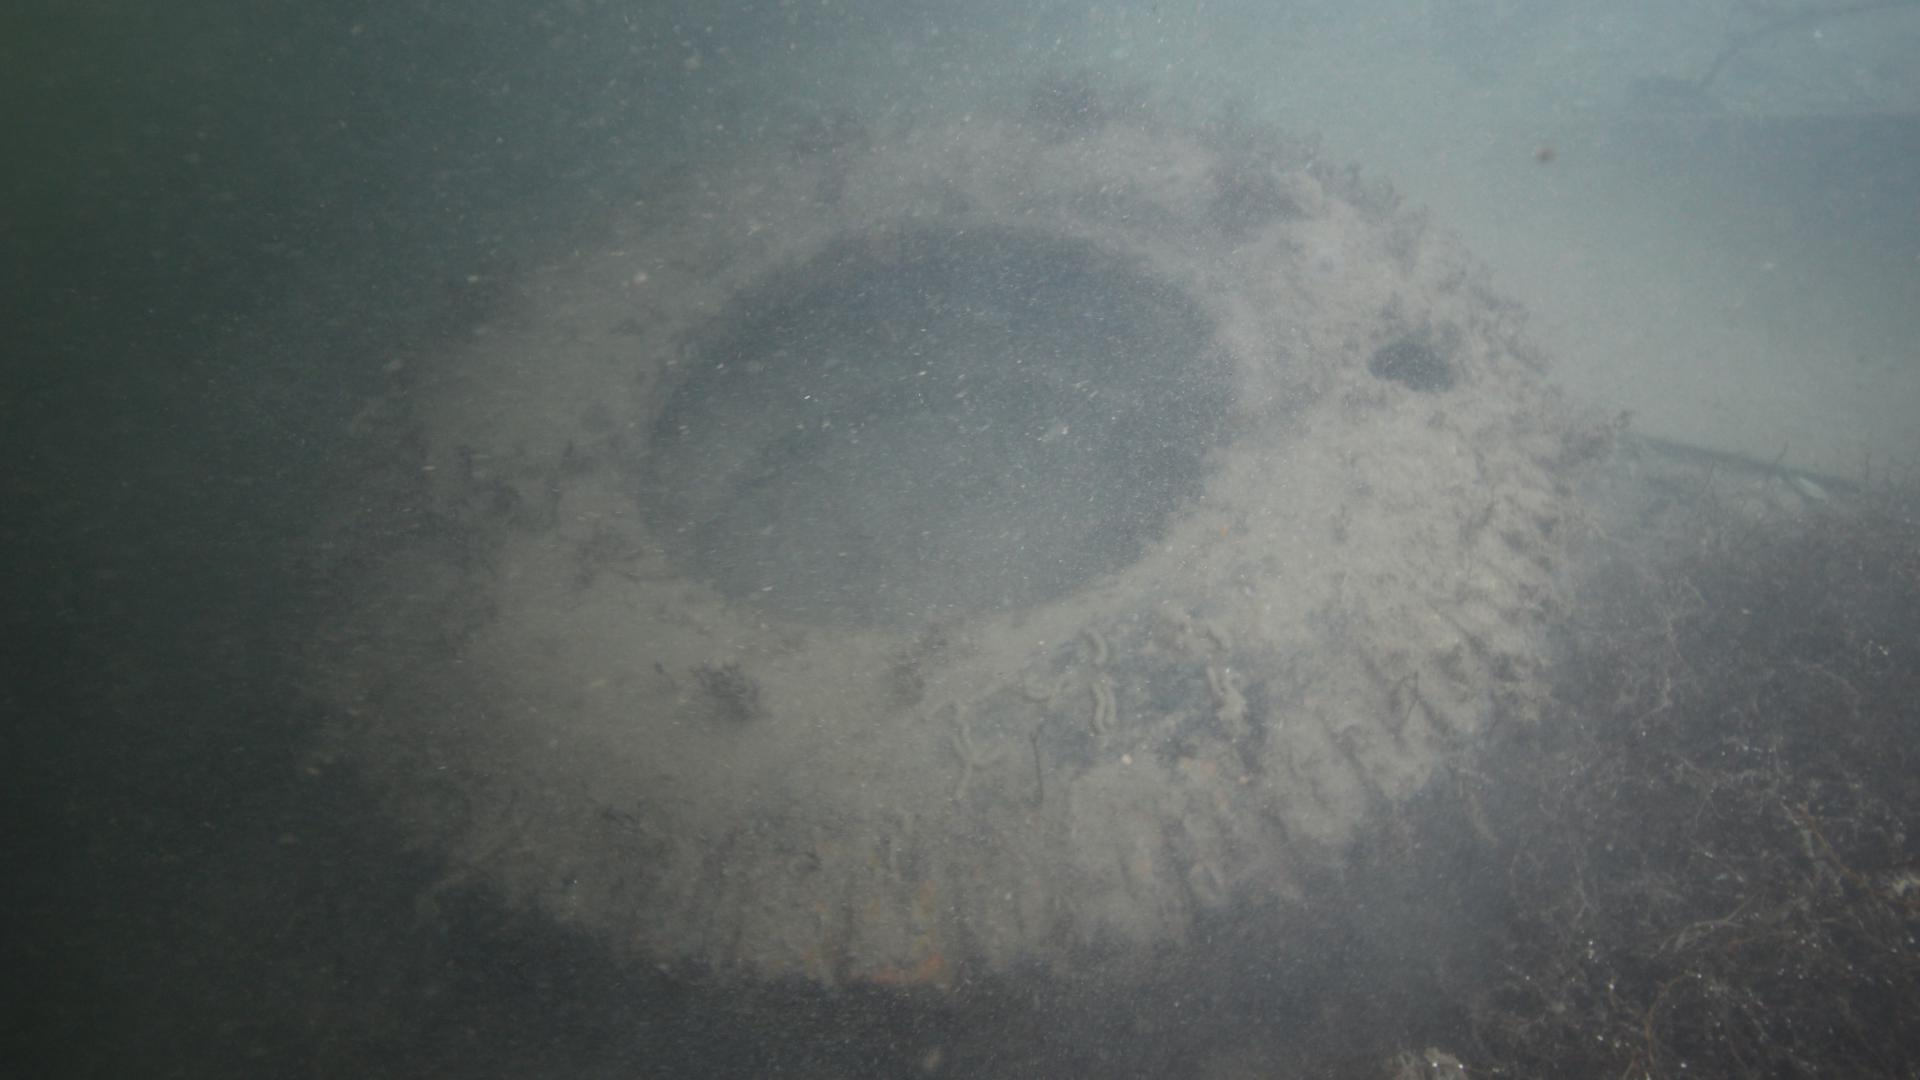tire: (284, 82, 1577, 996)
